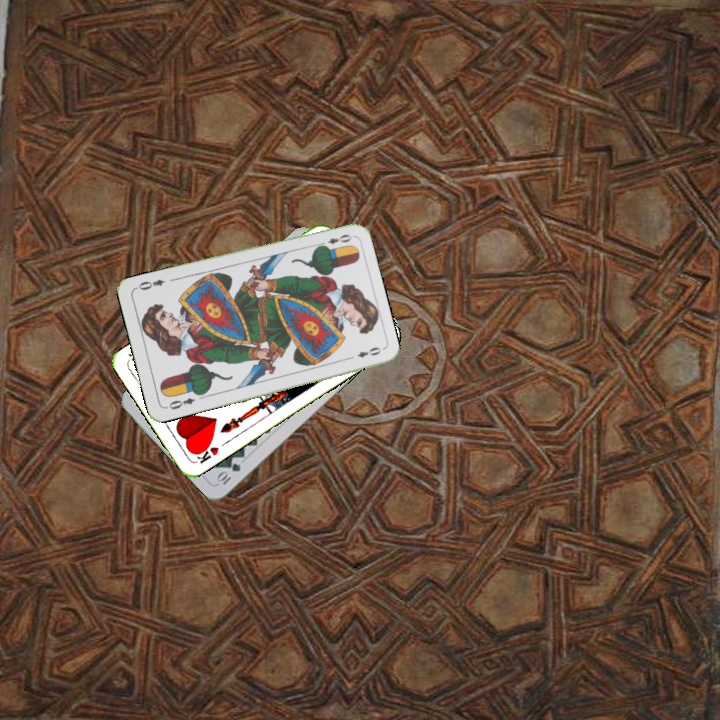EO: (314, 230, 354, 250), (162, 394, 197, 412)
G10: (213, 459, 243, 488)
HK: (190, 438, 229, 466)
